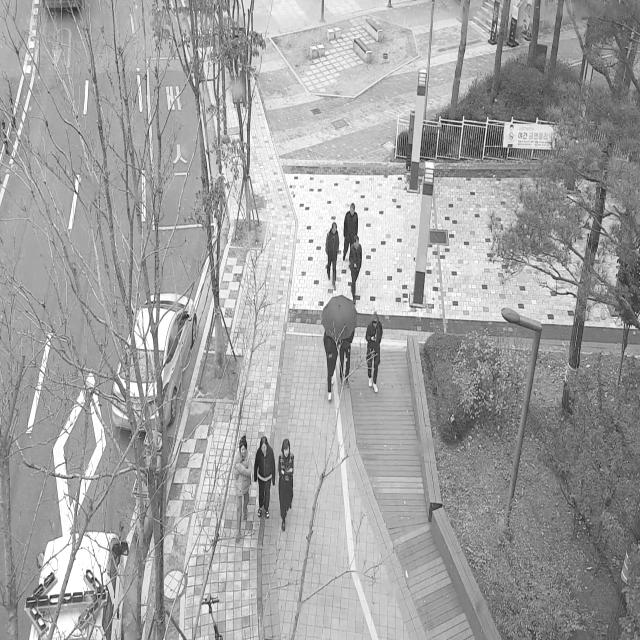Car: (110, 278, 198, 454)
Truck: (16, 509, 142, 640)
